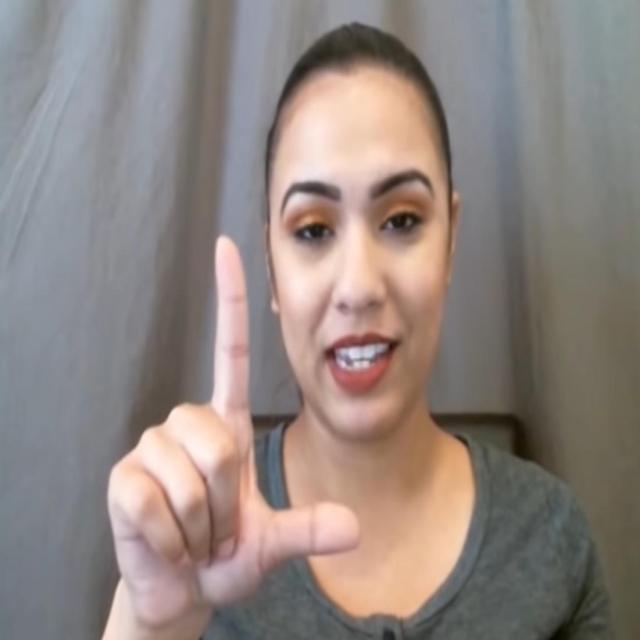L: (98, 228, 368, 630)
